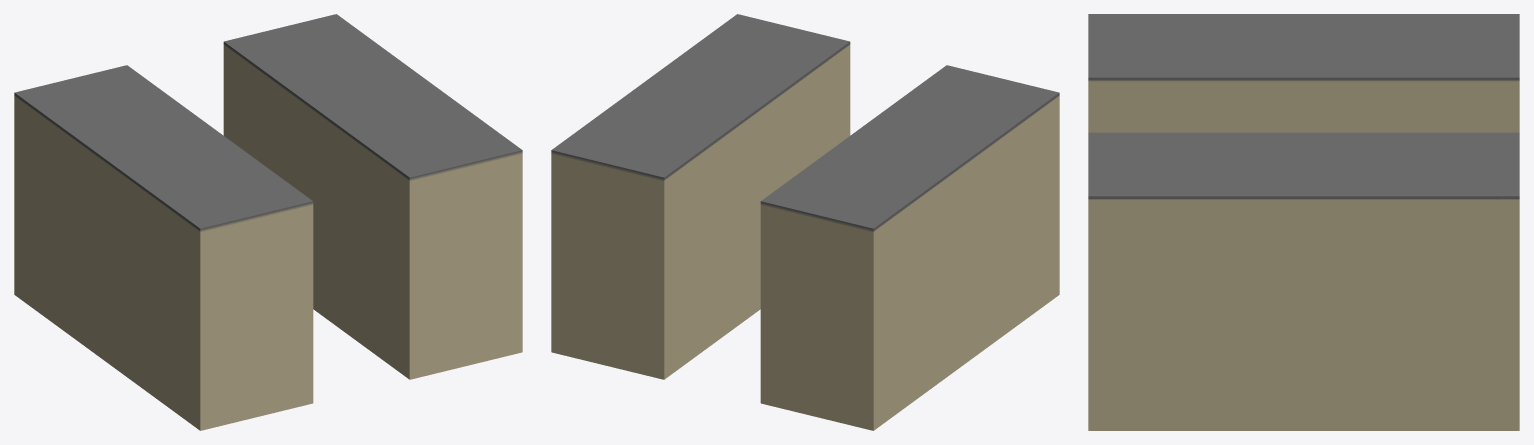
File: Edificio2 (con FBX).fbx
3 views of the same model, side by side, from view 1: azimuth 30°, elevation 25°; view 2: azimuth 150°, elevation 25°; view 3: azimuth 270°, elevation 25° (orthographic). The views are drawn at different scales.
Visible parts, largest first — view 1: EdificioBase; view 2: EdificioBase; view 3: EdificioBase.
Part boxes in pixels (x1,y1,x2,y2): EdificioBase: [14, 14, 522, 430]; EdificioBase: [551, 14, 1059, 430]; EdificioBase: [1088, 14, 1519, 430].
Size of the model in its own units: 20 by 12 by 20.
